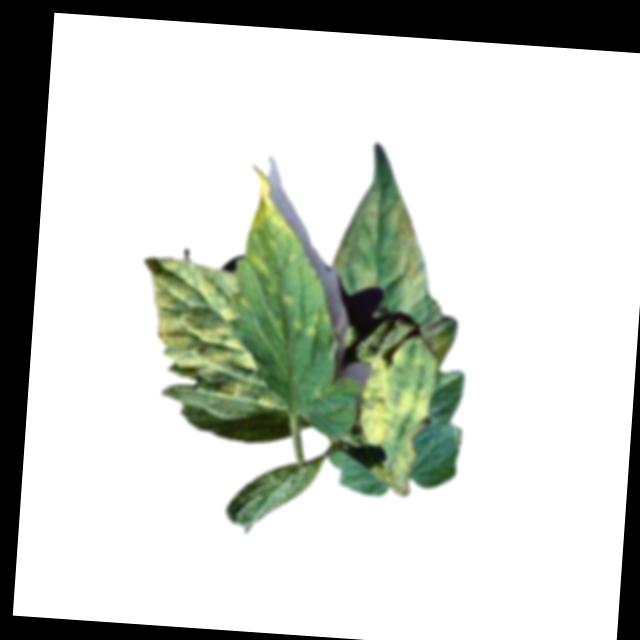Leaf_Mold: (135, 257, 267, 402), (330, 189, 436, 315), (353, 346, 434, 489), (243, 164, 307, 272)
